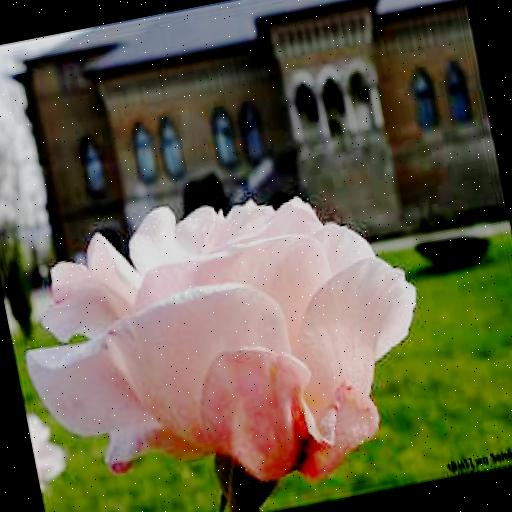rose: (4, 167, 443, 512)
